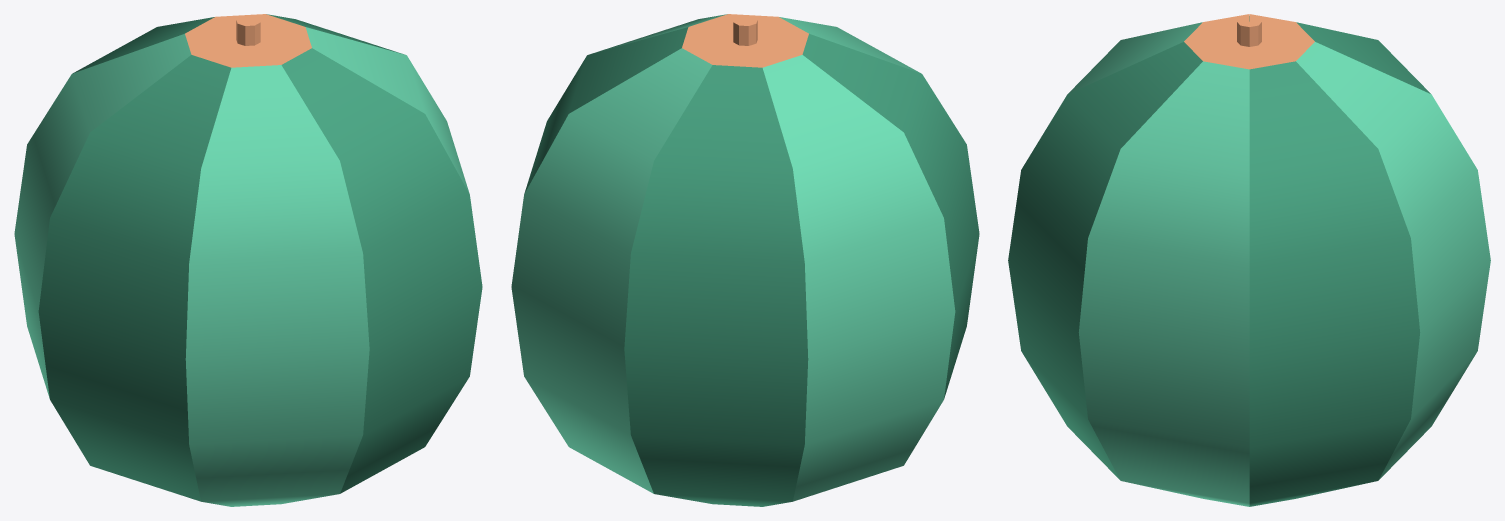
The model's file is watermelon.obj.
3 views of the same model, side by side, from view 1: azimuth 30°, elevation 25°; view 2: azimuth 150°, elevation 25°; view 3: azimuth 270°, elevation 25° (orthographic).
Parts seen in each view (by area): view 1: slice; view 2: slice; view 3: slice.
Part boxes in pixels (x1=…): slice: x1=14, y1=14, x2=482, y2=506; slice: x1=511, y1=14, x2=979, y2=506; slice: x1=1008, y1=14, x2=1490, y2=506.
Size of the model in its own units: 0.4554 by 0.4761 by 0.4554.
